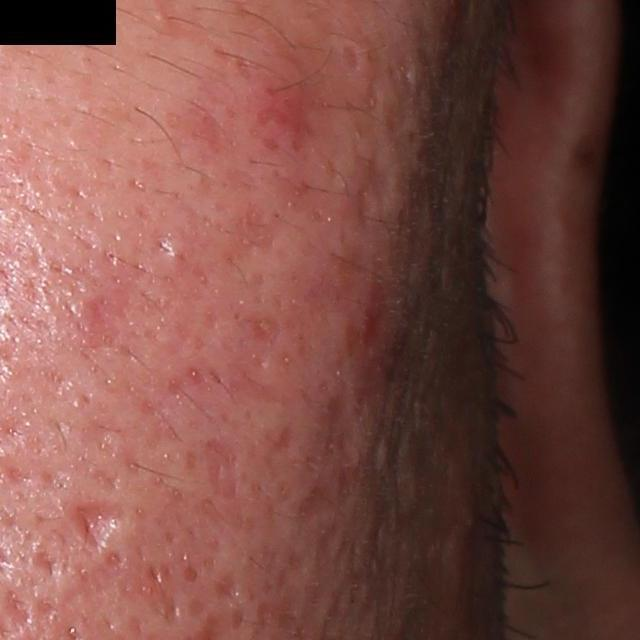atrophic_scar: (345, 157, 405, 238), (60, 501, 123, 553), (201, 434, 244, 503), (236, 314, 289, 364), (343, 42, 361, 72)
